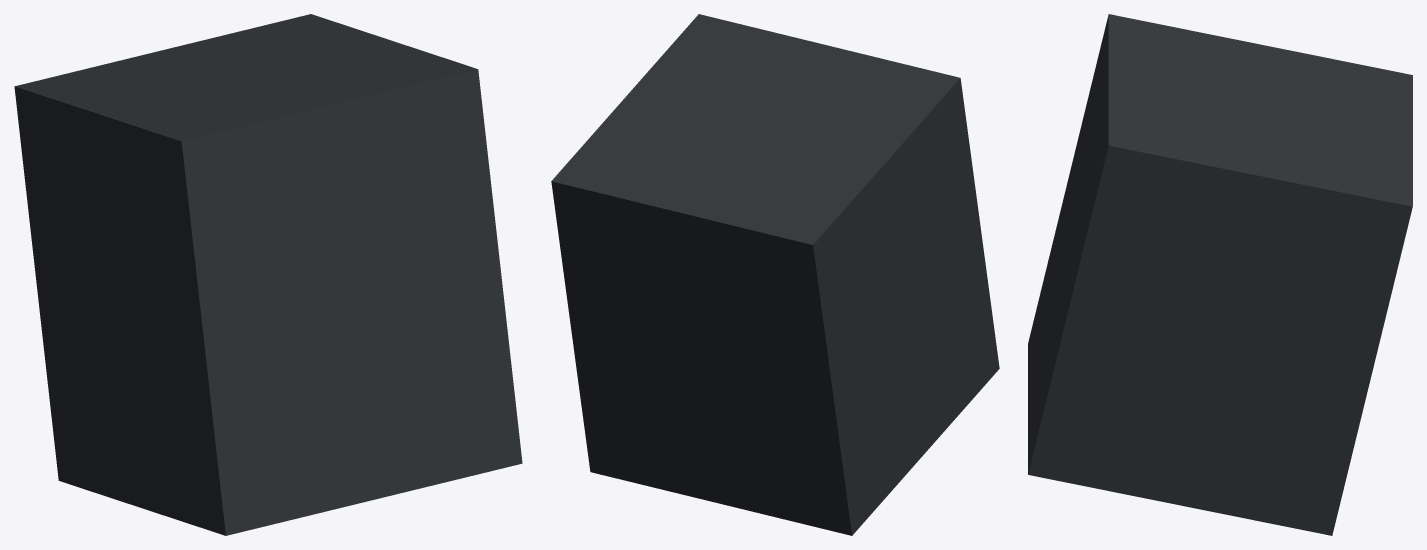
Rendered from ghost.obj.
The picture shows the model from 3 angles, left to right: view 1: azimuth 30°, elevation 25°; view 2: azimuth 150°, elevation 25°; view 3: azimuth 270°, elevation 25°; orthographic projection. The views are drawn at different scales.
Parts seen in each view (by area): view 1: cube; view 2: cube; view 3: cube.
Boxes of the visible parts, x1,y1,x2,y2 form: cube: (14,14,522,535); cube: (551,14,999,535); cube: (1028,14,1412,535).
Size of the model in its own units: 0.5625 by 0.7777 by 0.6946.
2 materials, 2 textured.
